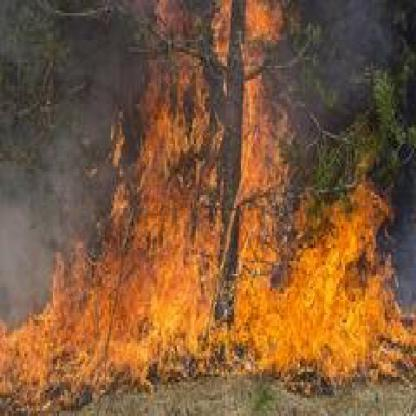fire: (2, 3, 411, 395)
